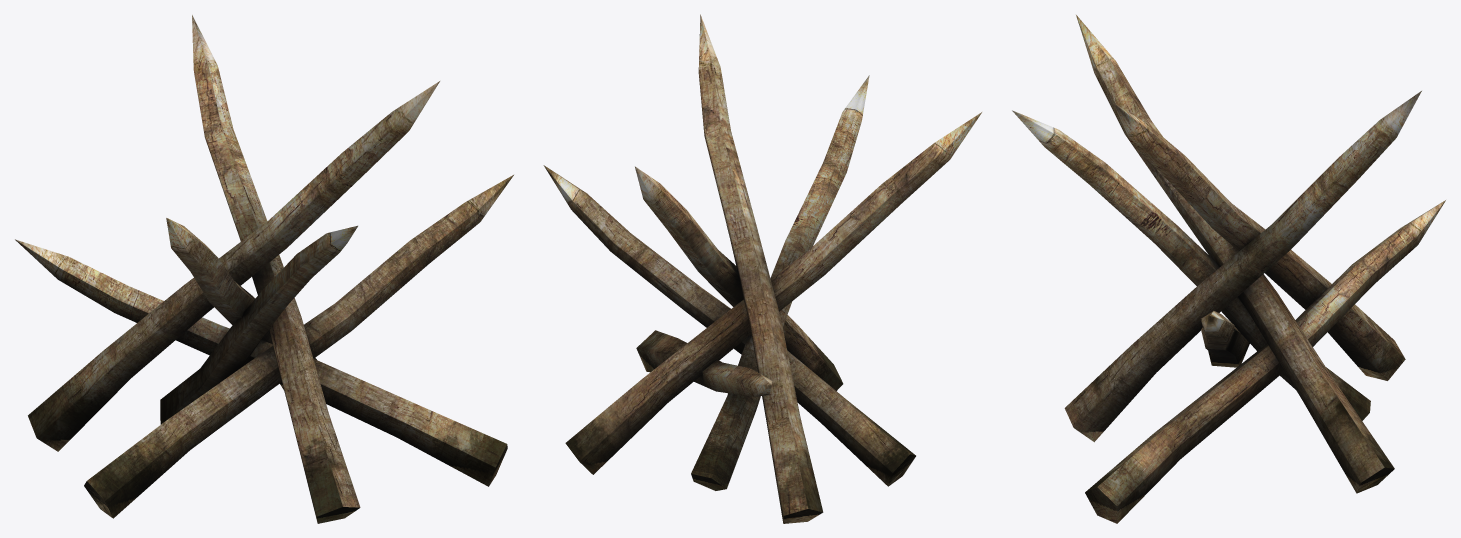
File: barricade_01.fbx
3 views of the same model, side by side, from view 1: azimuth 30°, elevation 25°; view 2: azimuth 150°, elevation 25°; view 3: azimuth 270°, elevation 25° (orthographic). The views are drawn at different scales.
Parts seen in each view (by area): view 1: Mesh Object; view 2: Mesh Object; view 3: Mesh Object.
Part boxes in pixels (x1=…): Mesh Object: x1=15, y1=15, x2=513, y2=523; Mesh Object: x1=543, y1=14, x2=981, y2=523; Mesh Object: x1=1012, y1=15, x2=1445, y2=523.
Bounding box in the file's own units: 1.9 × 1.78 × 1.78.
